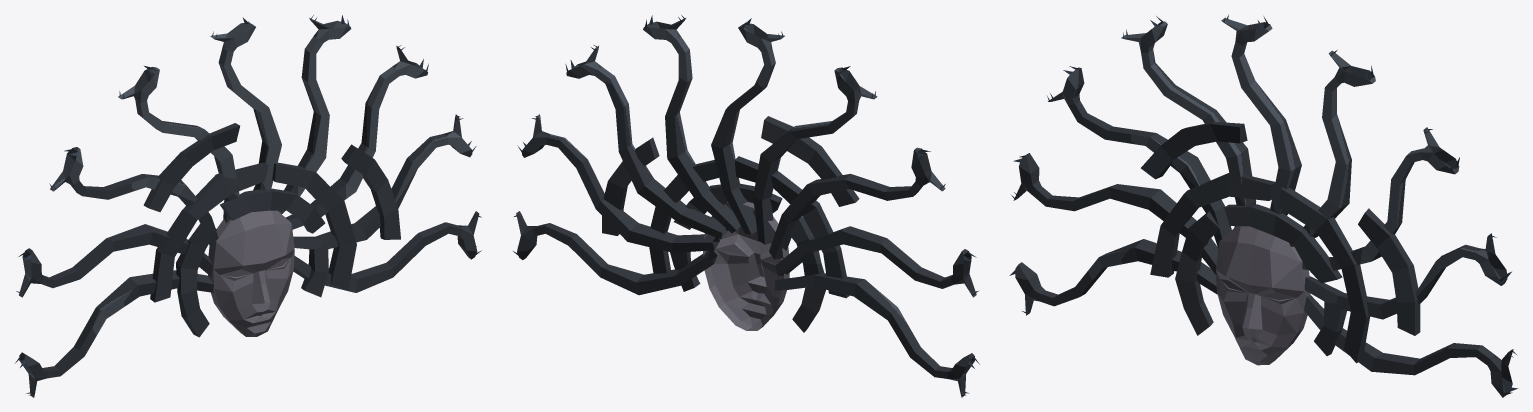
File: Grille.fbx
3 views of the same model, side by side, from view 1: azimuth 30°, elevation 25°; view 2: azimuth 150°, elevation 25°; view 3: azimuth 330°, elevation 25° (orthographic). The views are drawn at different scales.
Visible parts, largest first — view 1: Grille; view 2: Grille; view 3: Grille.
Boxes of the visible parts, box(x1,y1,x2,y2) form: Grille: box(15, 15, 481, 397); Grille: box(513, 15, 979, 397); Grille: box(1009, 14, 1518, 397).
Bounding box in the file's own units: 155 × 104 × 13.22.
Materials: 1 (1 with a texture image).
